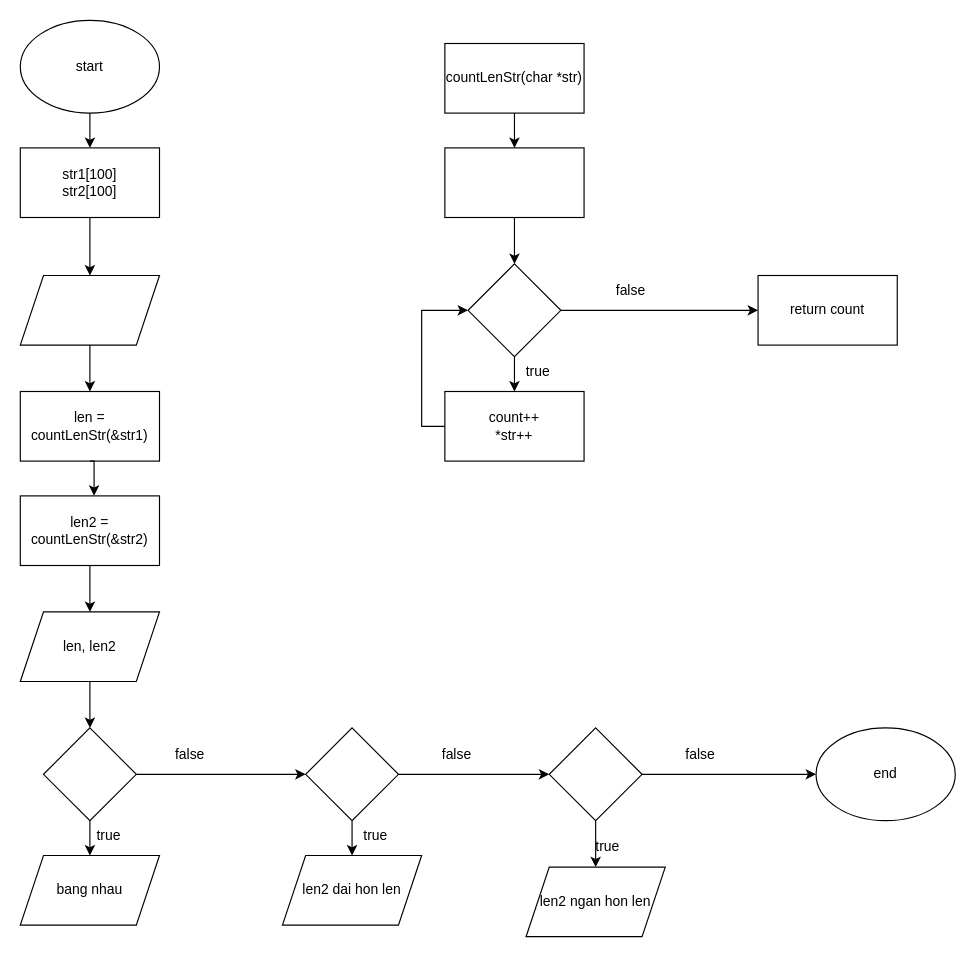
Image size: 976x957. Some labels were removed from this diagram. The centre of each missing label's shape, as x and y in pixels:
"*str != '\0'?" belongs at [514,310].
"count = 0" belongs at [514,182].
"len == len2?" belongs at [89,774].
"len2<len" belongs at [595,774].
"len<len2?" belongs at [351,774].
"str1,str2" belongs at [89,309].
